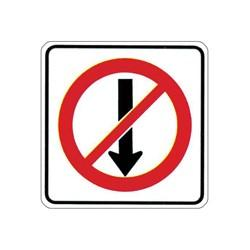Straight Prohibitor No Entry: (32, 25, 212, 221)
